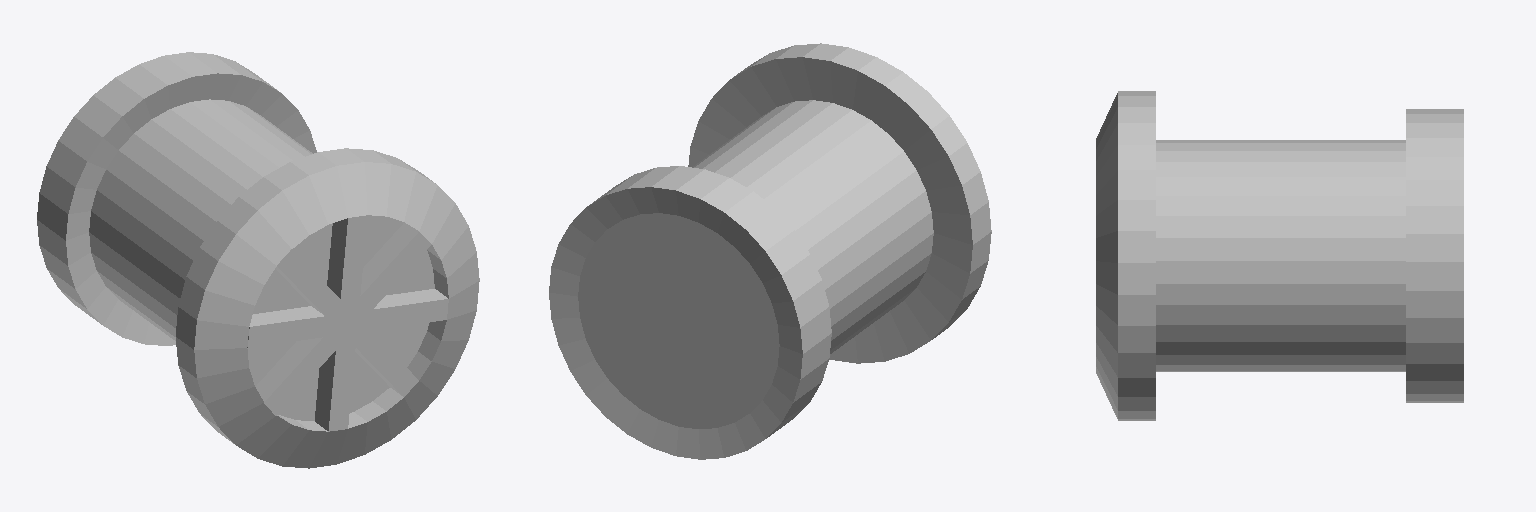
The model's file is ButoirCirculaire.obj.
The picture shows the model from 3 angles: view 1: azimuth 30°, elevation 25°; view 2: azimuth 150°, elevation 25°; view 3: azimuth 270°, elevation 25°; orthographic projection.
Visible parts, largest first — view 1: Cylinder; view 2: Cylinder; view 3: Cylinder.
Part boxes in pixels (x1,y1,x2,y2): Cylinder: (37,52,479,468); Cylinder: (549,43,991,459); Cylinder: (1096,91,1463,420).
Bounding box in the file's own units: 28.33 × 28.33 × 31.67.